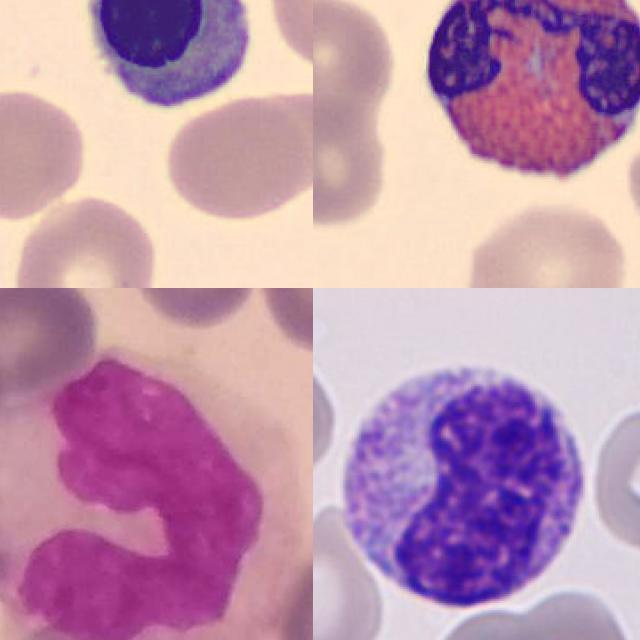Eosinophil: (404, 0, 640, 205)
Lymphocyte: (329, 347, 597, 621), (72, 0, 264, 116)
Monocyte: (0, 346, 313, 640)
RBC: (159, 92, 313, 220), (460, 196, 634, 288), (7, 190, 164, 288), (0, 83, 91, 222), (207, 81, 313, 197), (313, 0, 401, 133), (313, 97, 394, 233), (313, 499, 389, 640), (586, 405, 640, 554), (501, 583, 638, 640), (419, 601, 549, 640)
